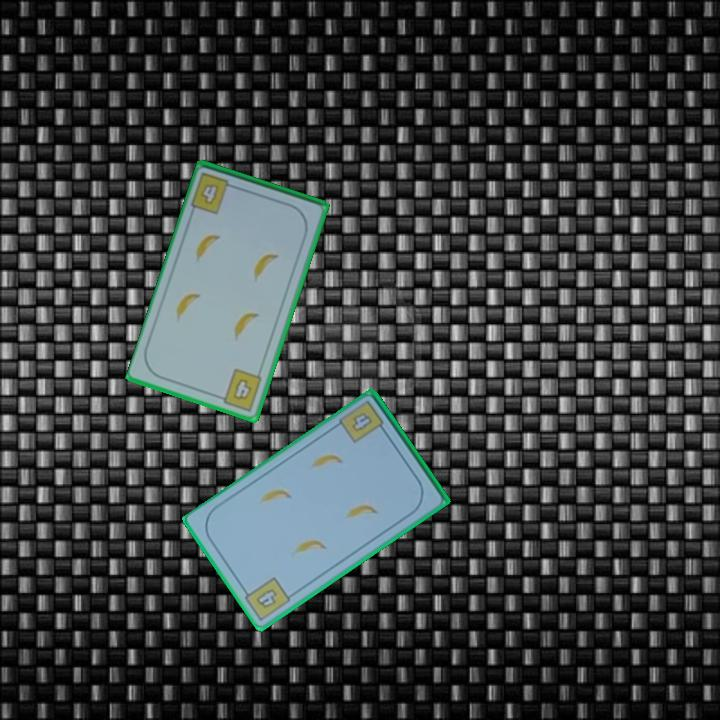4b: (239, 573, 294, 624), (214, 365, 265, 414), (188, 169, 240, 217), (348, 409, 376, 436)
